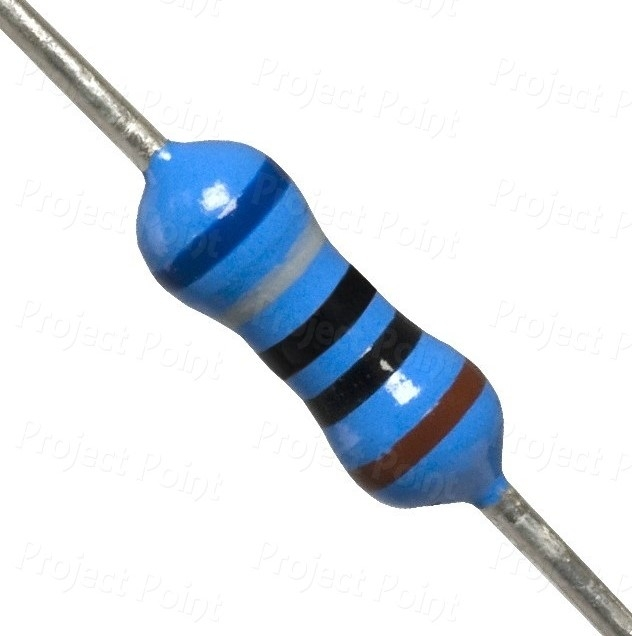resistor: (69, 56, 587, 592)
